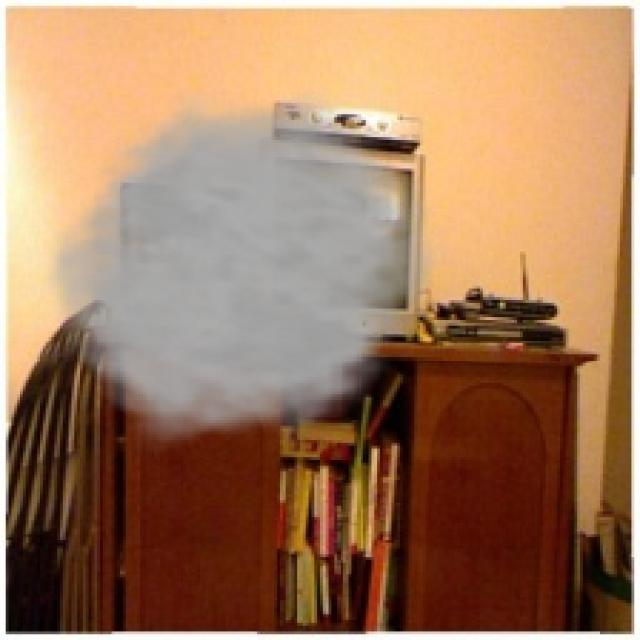smoke: (34, 92, 454, 457)
